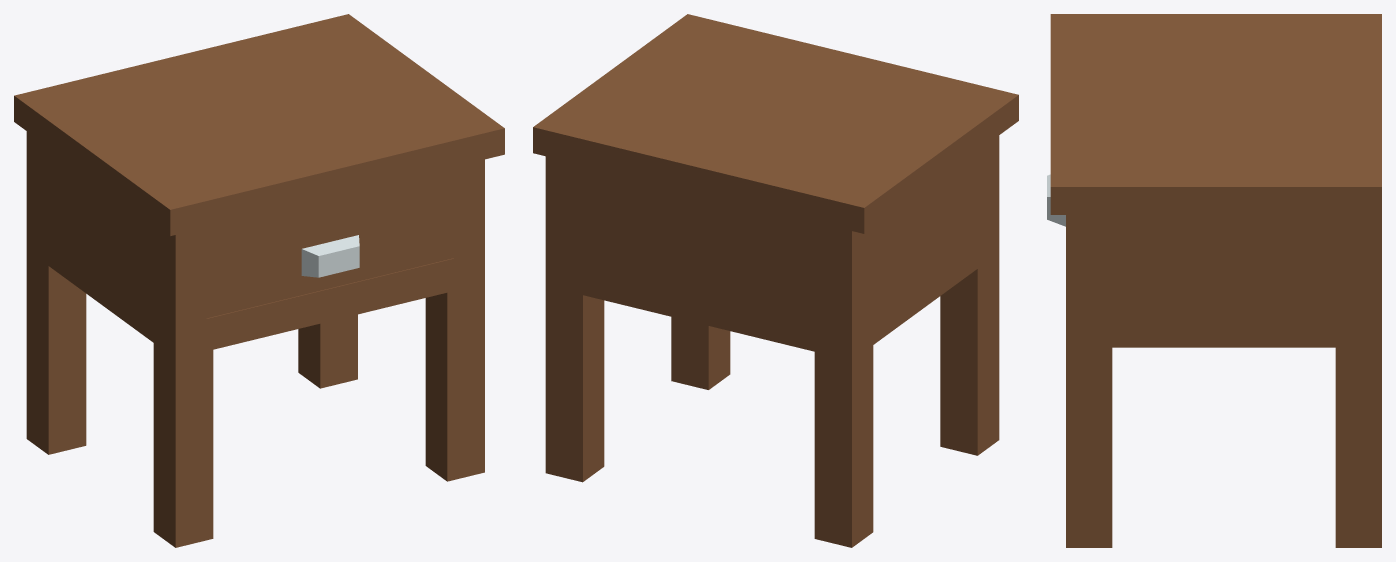
The model's file is m_dresser.glb.
The picture shows the model from 3 angles, left to right: view 1: azimuth 30°, elevation 25°; view 2: azimuth 150°, elevation 25°; view 3: azimuth 270°, elevation 25°; orthographic projection. The views are drawn at different scales.
Visible parts, largest first — view 1: Mesh cabinetBedDrawerTable, drawer; view 2: Mesh cabinetBedDrawerTable; view 3: Mesh cabinetBedDrawerTable.
Boxes of the visible parts, x1,y1,x2,y2 form: Mesh cabinetBedDrawerTable: [14, 14, 504, 547]; drawer: [206, 192, 453, 318]; Mesh cabinetBedDrawerTable: [533, 14, 1018, 547]; Mesh cabinetBedDrawerTable: [1050, 14, 1381, 547].
Size of the model in its own units: 0.8085 by 0.8 by 0.6605.
